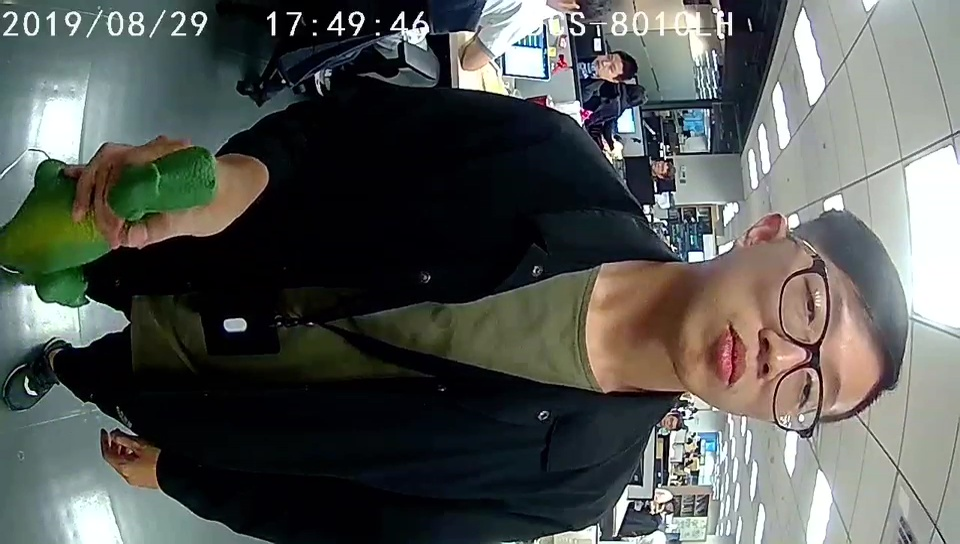rex: (4, 145, 220, 309)
